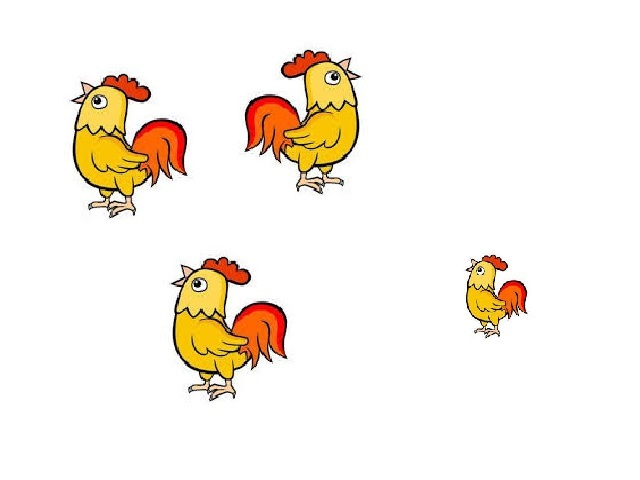crown: (207, 256, 253, 286), (106, 73, 152, 101), (280, 50, 326, 71), (487, 253, 511, 272)
eyes: (324, 70, 340, 88), (93, 92, 108, 110), (190, 277, 205, 290), (476, 266, 487, 276)
feet: (92, 198, 140, 217), (196, 382, 237, 403), (295, 176, 345, 190), (473, 324, 501, 341)
tail: (228, 303, 290, 366), (132, 123, 190, 187), (242, 93, 296, 155), (505, 280, 526, 316)
